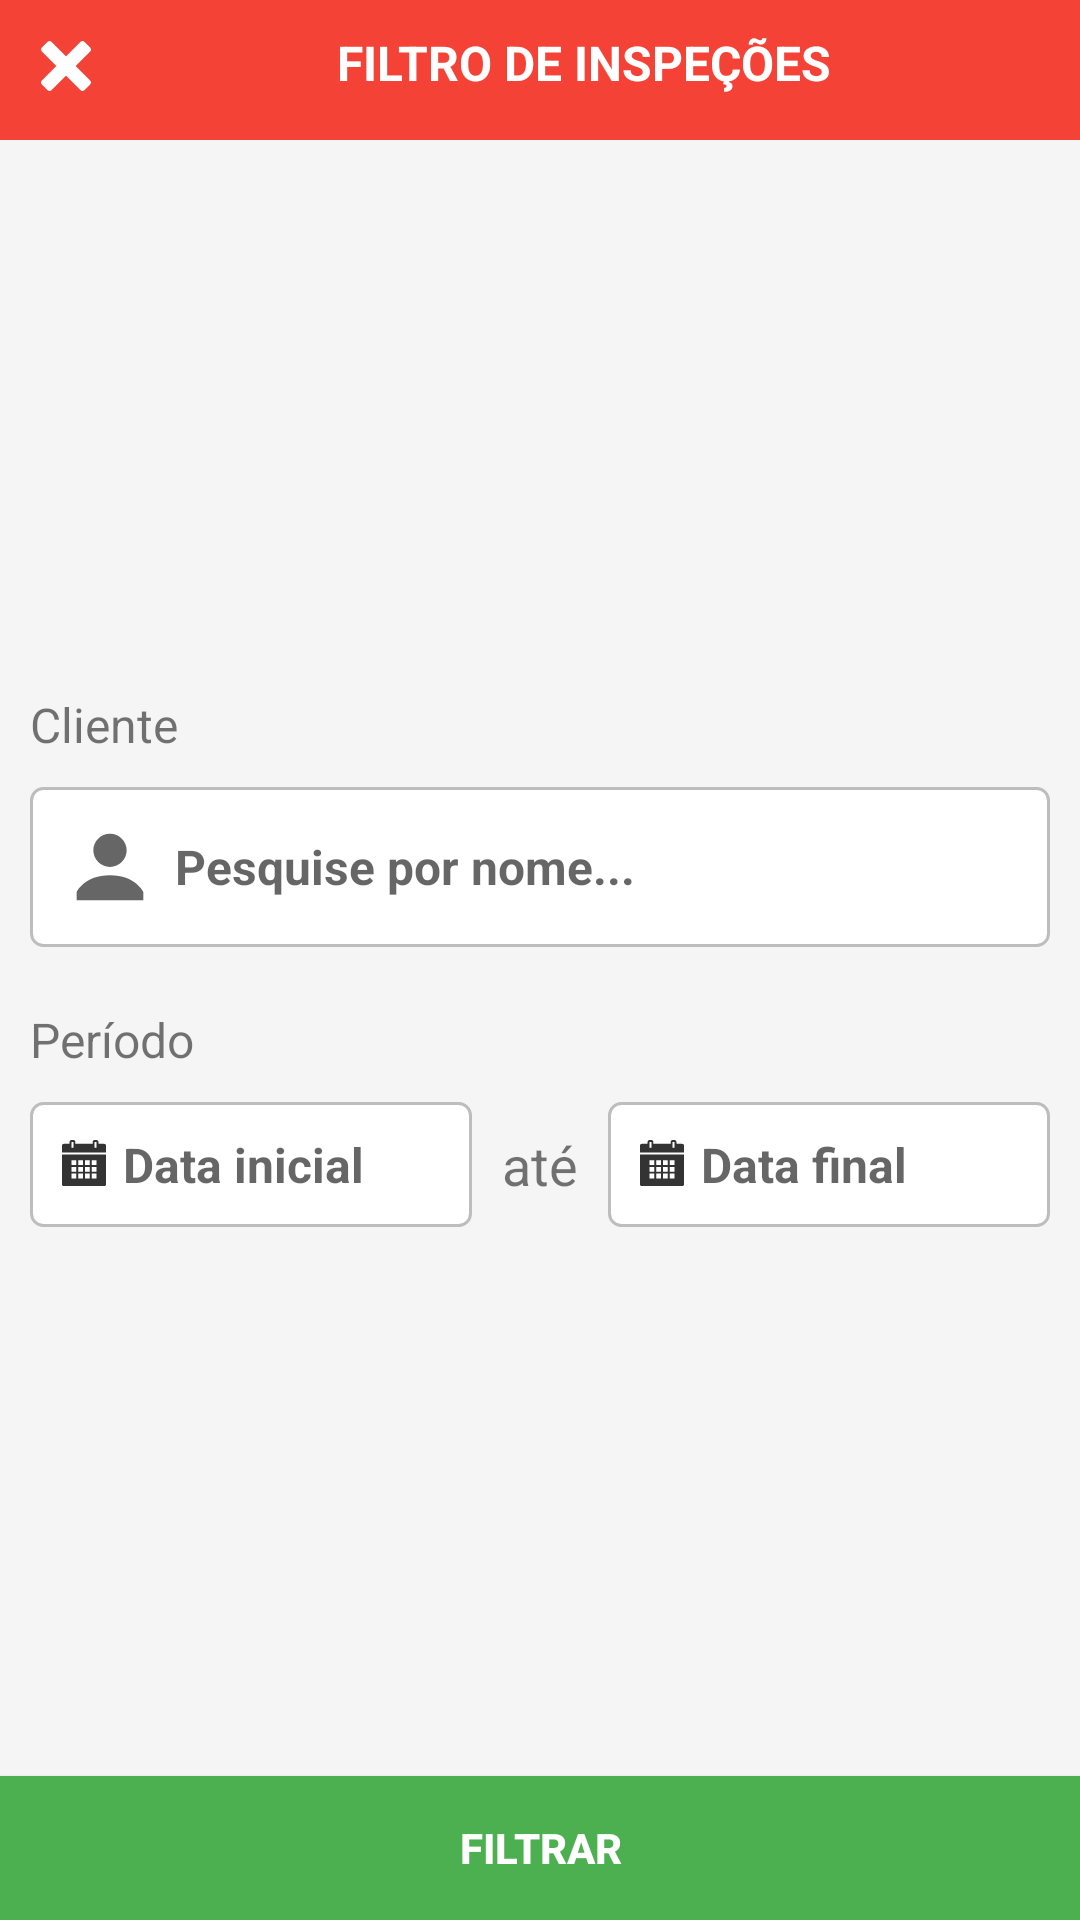

Named icons in this screenshot (1080×1920) and their bounding boxes, (x1, y1, x2, y2):
close: (41, 41, 91, 91)
